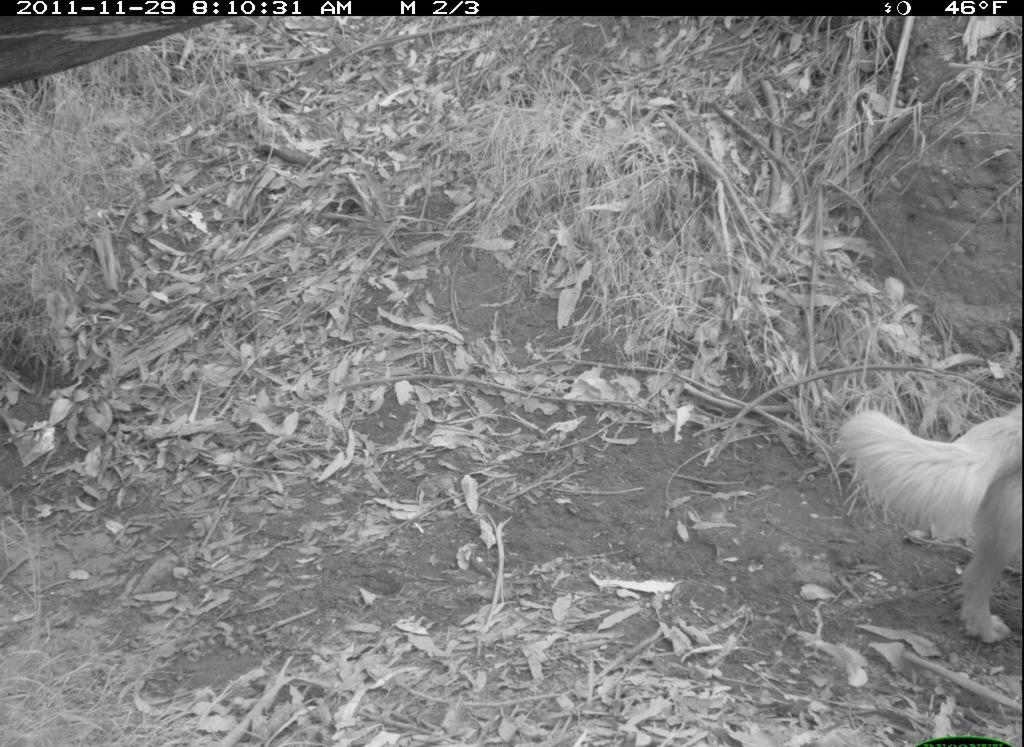dog: (834, 350, 1021, 646)
